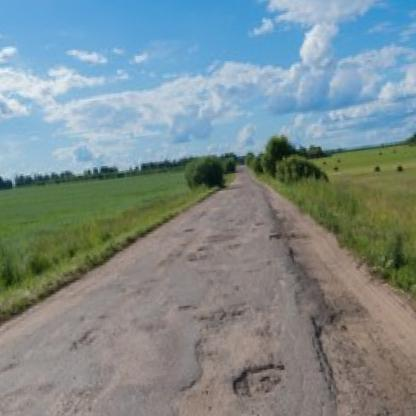pothole: (231, 360, 291, 401)
